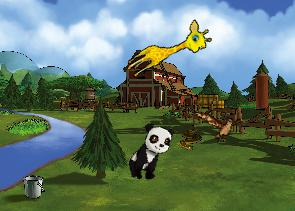eagle: (193, 104, 244, 145)
giraffe: (122, 16, 215, 88)
panda: (124, 119, 176, 186)
